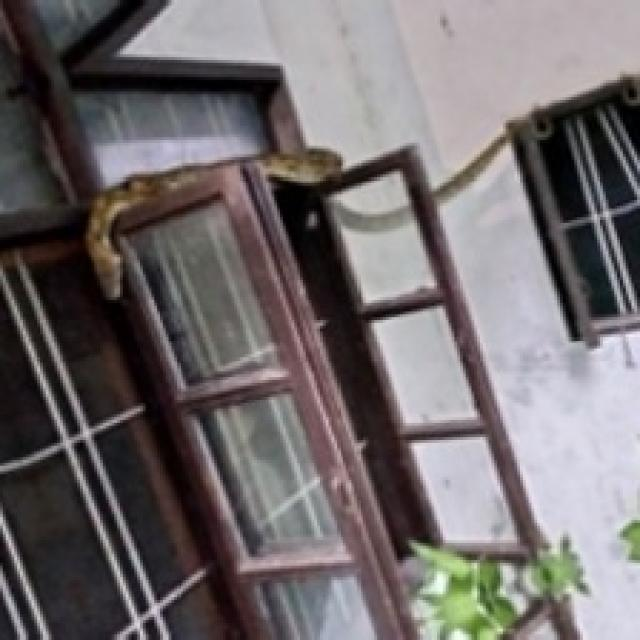reticulated python: (85, 165, 208, 300), (434, 135, 509, 202), (259, 149, 342, 186), (339, 205, 411, 231)
